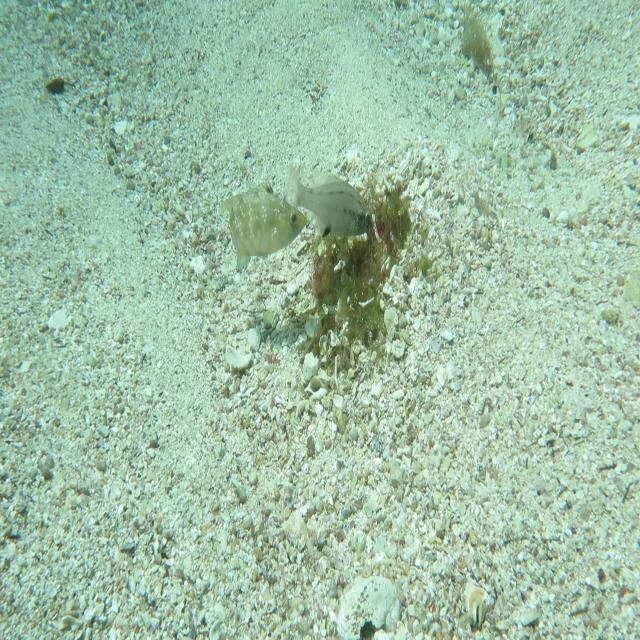GB: (223, 174, 308, 277)
female: (279, 161, 376, 239)
nest: (302, 165, 426, 371)
